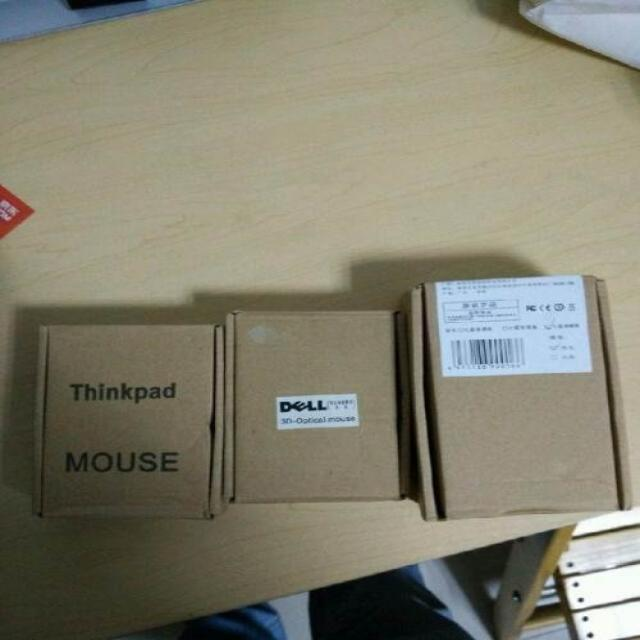box: (399, 273, 635, 523), (33, 325, 223, 518), (223, 309, 413, 502)
